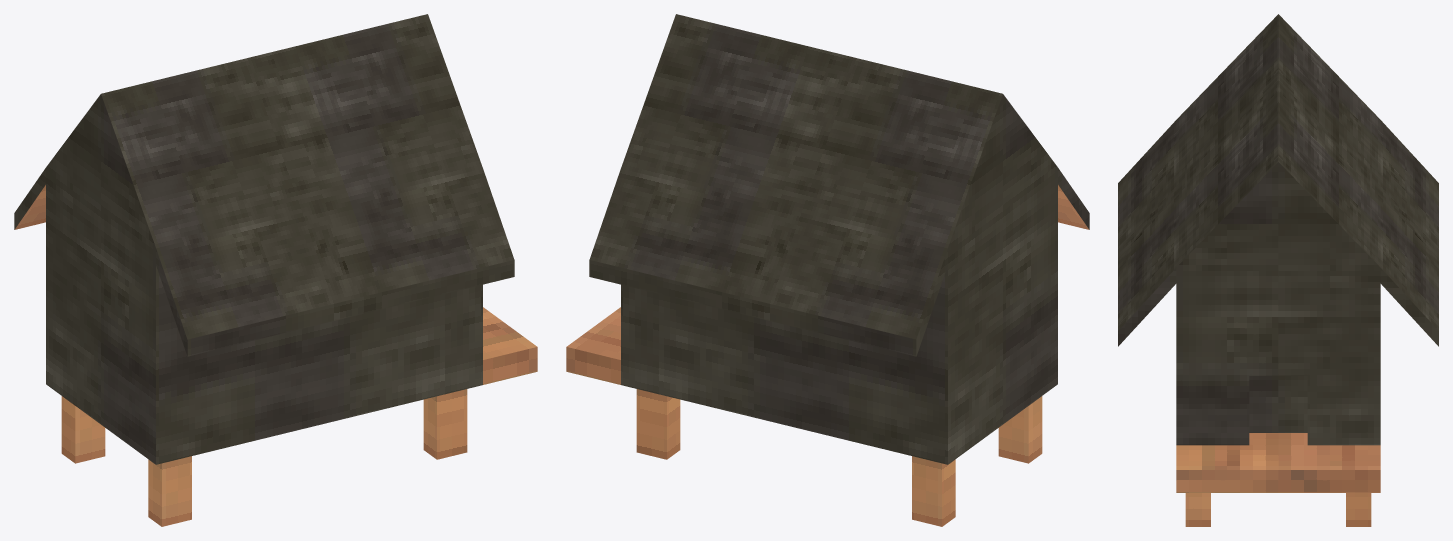
File: house2_test.glb
3 renders of one model, left to right at view 1: azimuth 30°, elevation 25°; view 2: azimuth 150°, elevation 25°; view 3: azimuth 270°, elevation 25°, orthographic. The views are drawn at different scales.
Visible parts, largest first — view 1: Cube.029; view 2: Cube.029; view 3: Cube.029.
Part boxes in pixels (x1=…): Cube.029: x1=14, y1=14, x2=537, y2=526; Cube.029: x1=566, y1=14, x2=1089, y2=526; Cube.029: x1=1118, y1=14, x2=1438, y2=526.
Size of the model in its own units: 7 by 7 by 5.5.
Materials: 3 (3 with a texture image).
